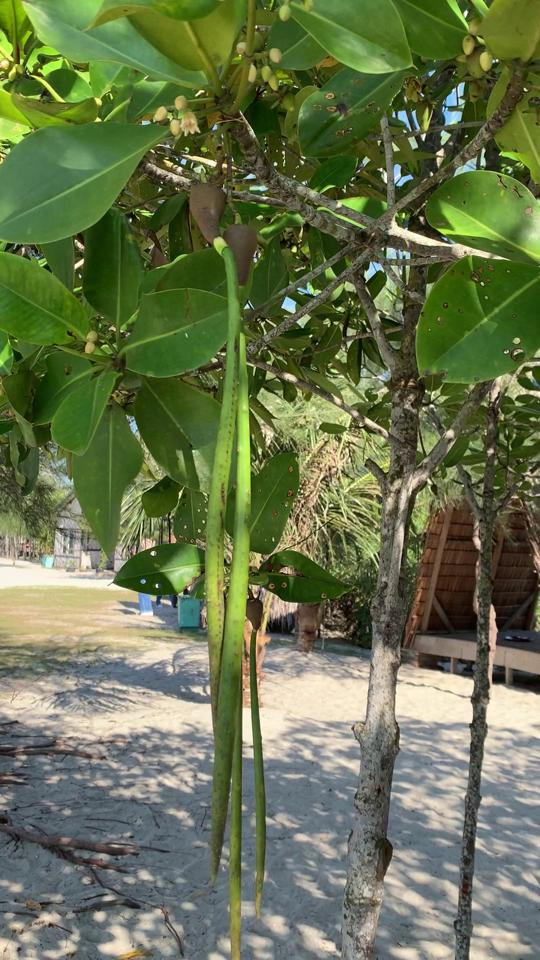setengah matang: (186, 159, 243, 777)
